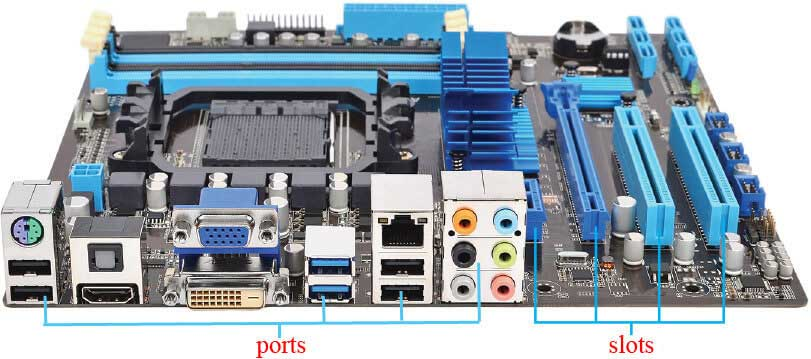DVI: (186, 281, 267, 310)
Ethernet: (374, 211, 432, 254)
HDMI: (77, 283, 141, 307)
USB: (310, 258, 355, 278)
VGA: (196, 221, 251, 249)
